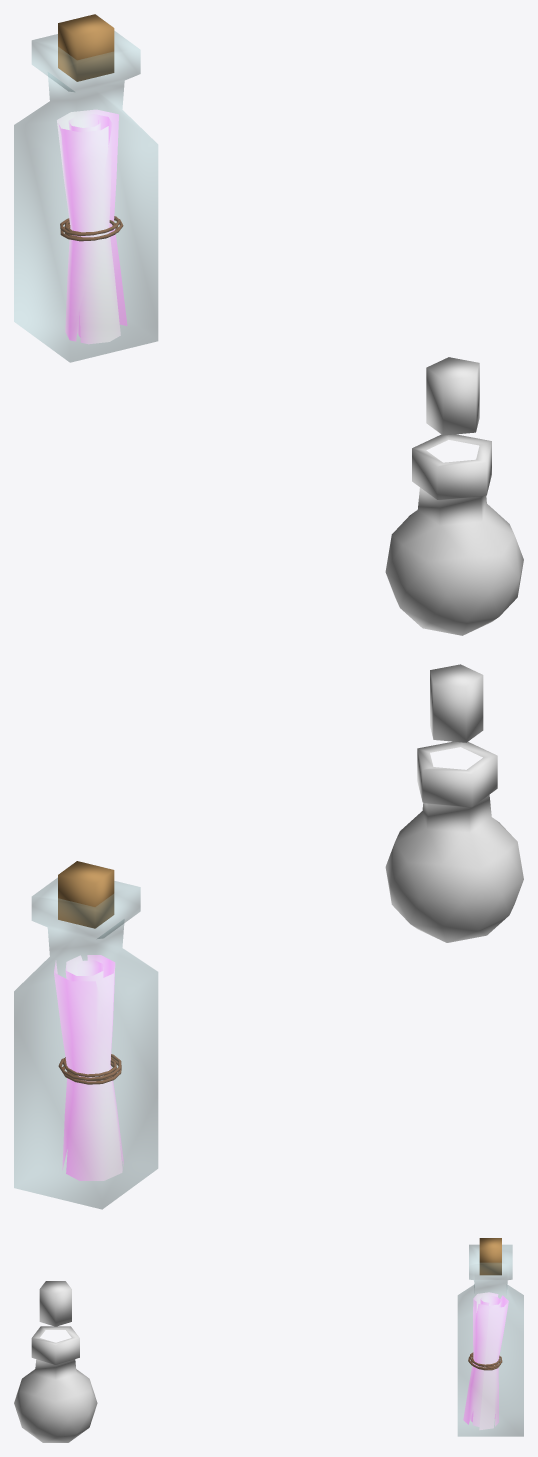
Rendered from purple-glowing-bottle.glb.
3 renders of one model, top to bottom at view 1: azimuth 30°, elevation 25°; view 2: azimuth 150°, elevation 25°; view 3: azimuth 270°, elevation 25°, orthographic. The views are drawn at different scales.
Parts seen in each view (by area): view 1: Torus Knot 4 x 1, Icosphere; view 2: Torus Knot 4 x 1, Icosphere; view 3: Torus Knot 4 x 1, Icosphere.
Boxes of the visible parts, x1=… form: Torus Knot 4 x 1: x1=14, y1=14, x2=157, y2=362; Icosphere: x1=385, y1=357, x2=523, y2=635; Torus Knot 4 x 1: x1=14, y1=861, x2=157, y2=1209; Icosphere: x1=385, y1=664, x2=523, y2=942; Torus Knot 4 x 1: x1=458, y1=1238, x2=523, y2=1436; Icosphere: x1=14, y1=1281, x2=97, y2=1442.
Bounding box in the file's own units: 1.9 × 5.22 × 12.21.
